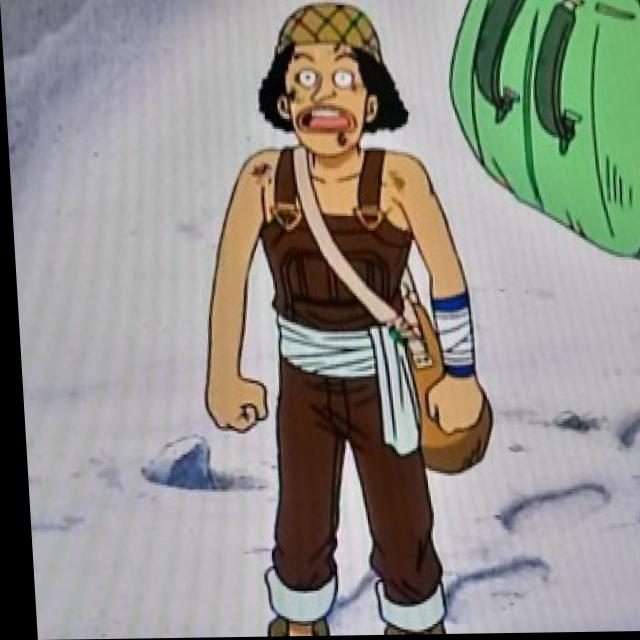Usopp: (242, 0, 418, 170)
